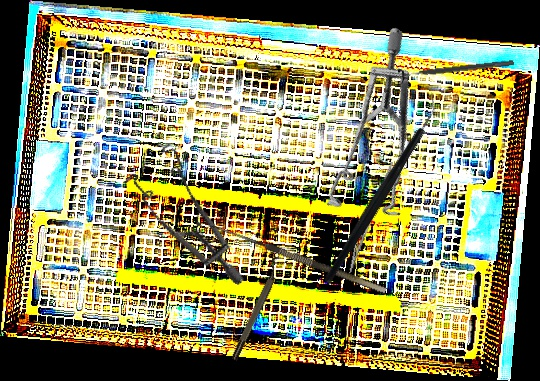Chopper: (273, 90, 487, 286)
Fixation Ring: (225, 254, 288, 362), (397, 53, 515, 87)
Hook Surgical: (208, 221, 387, 304)
Needle Holder: (340, 156, 394, 277)
Speculum: (271, 24, 493, 246), (104, 132, 283, 287)
